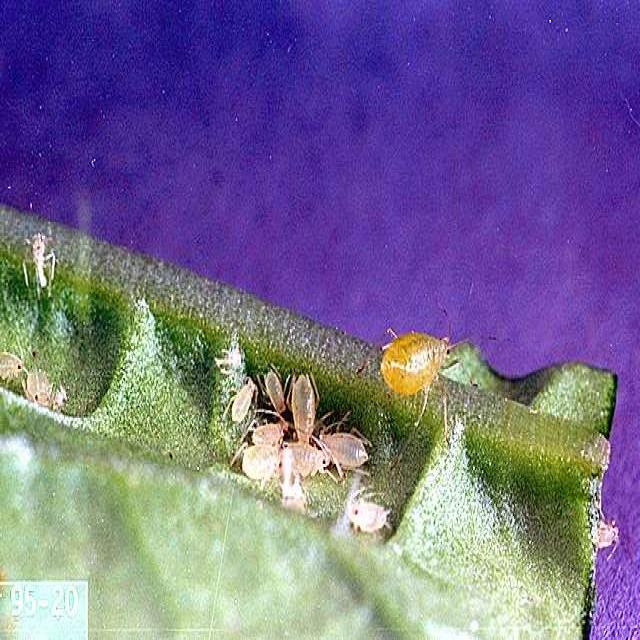Aphids: (221, 356, 383, 517), (357, 284, 514, 441)
